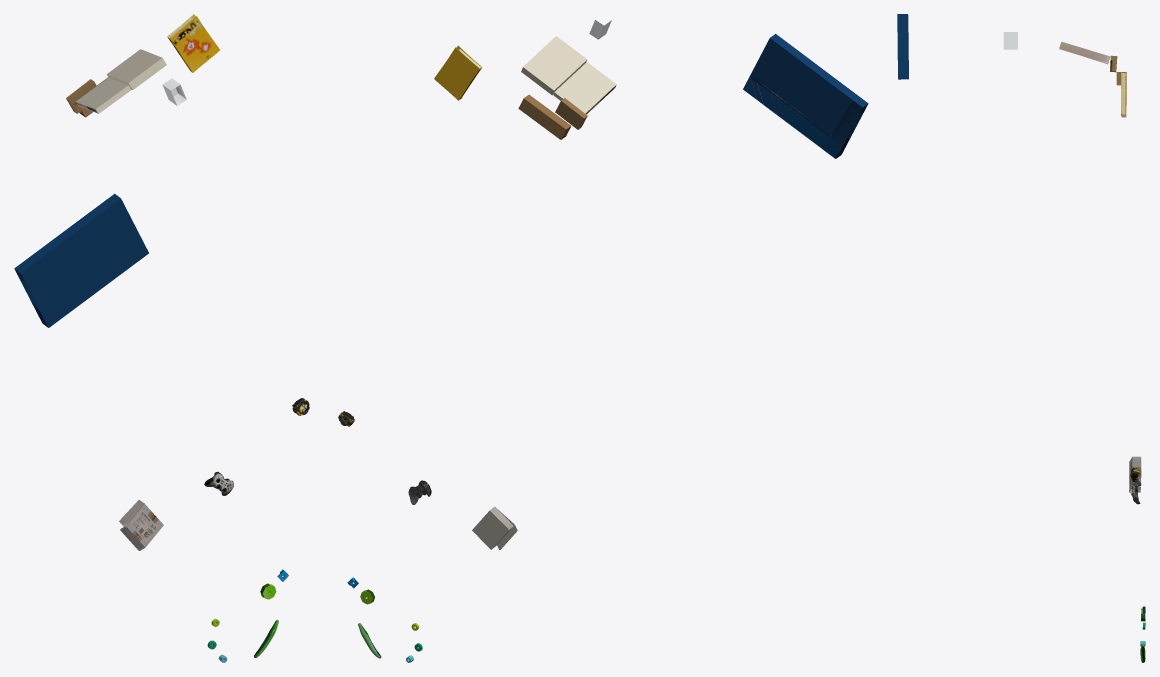
File: props-2.glb
3 views of the same model, side by side, from view 1: azimuth 30°, elevation 25°; view 2: azimuth 150°, elevation 25°; view 3: azimuth 270°, elevation 25° (orthographic). The views are drawn at different scales.
Parts seen in each view (by area): view 1: face_2_pos_010, part0_photo0_021, face_0_neg_010, face_1_neg_001, part5_photo0, face_2_pos_004; view 2: face_2_neg_010, face_1_neg_001, face_2_pos_004, part0_fallback_021, face_0_neg_010, part2_fallback_002; view 3: face_1_pos_010, face_2_pos_001.
Boxes of the visible parts, x1,y1,x2,y2 form: face_2_pos_010: (20,199,148,327); part0_photo0_021: (167,16,219,72); face_0_neg_010: (14,193,120,272); face_1_neg_001: (107,49,161,82); part5_photo0: (126,503,162,546); face_2_pos_004: (76,77,127,108); face_2_neg_010: (743,38,862,158); face_1_neg_001: (523,36,586,90); face_2_pos_004: (554,62,616,113); part0_fallback_021: (434,45,481,100); face_0_neg_010: (770,34,868,107); part2_fallback_002: (472,511,508,549); face_1_pos_010: (897,14,908,77); face_2_pos_001: (1059,41,1109,63).
Bounding box in the file's own units: 2.63 × 3.94 × 1.57.
72 materials, 45 textured.
